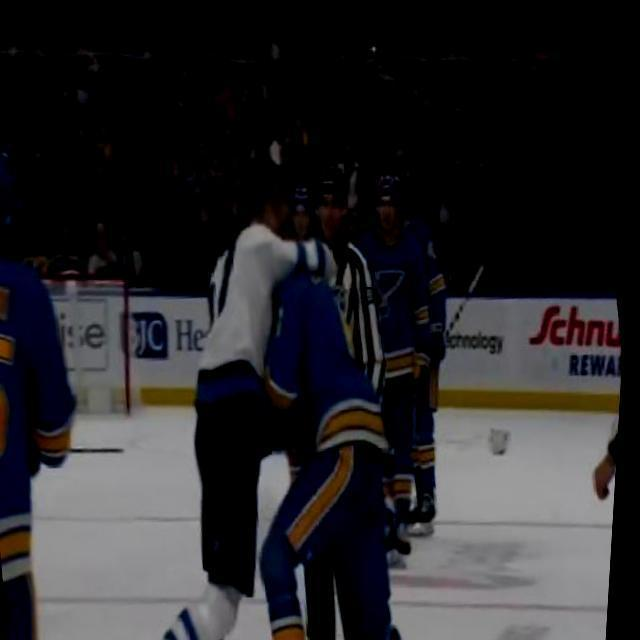fight: (130, 138, 458, 640)
